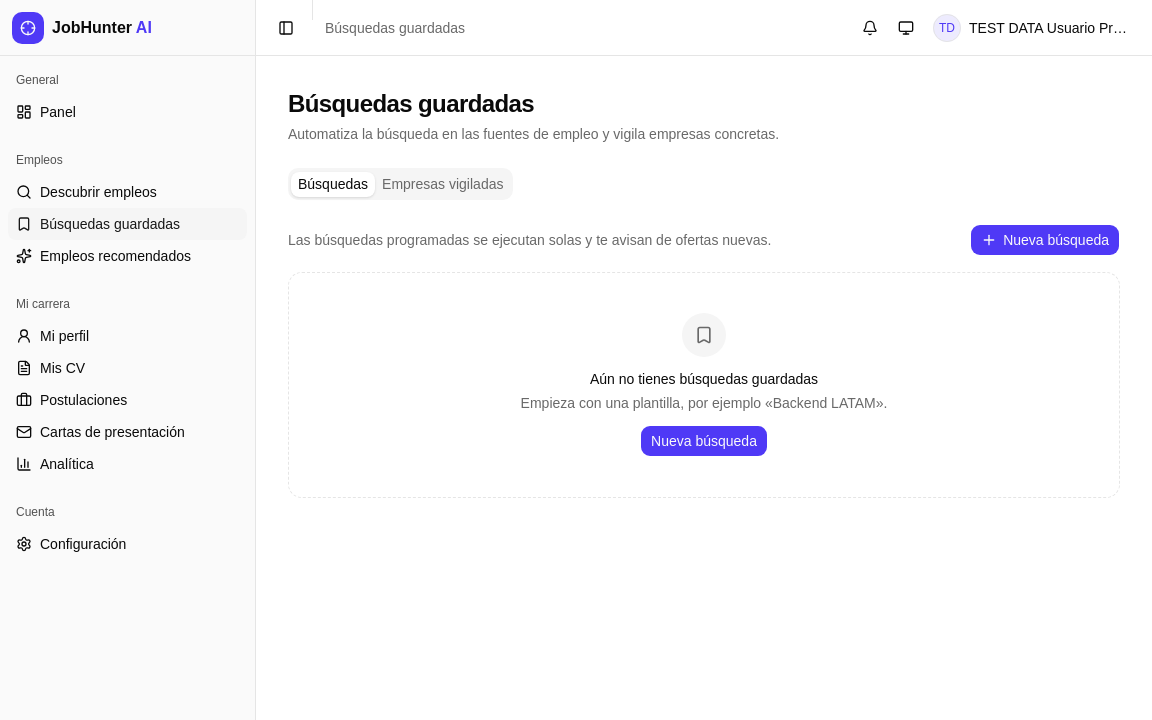
Test: Búsquedas guardadas › validates the interval (≥ 60 minutes) and max results
Click the 1st button "Nueva búsqueda" at coordinates (1045, 240), box [970, 224, 1120, 256]
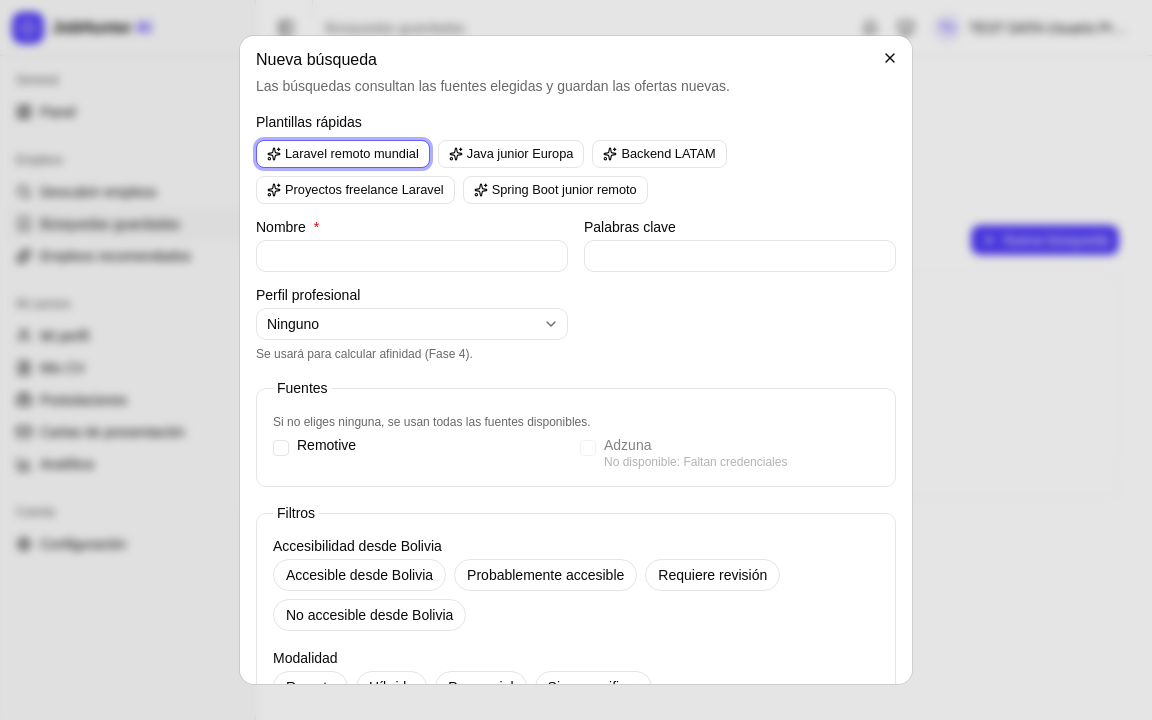
Type "TEST DATA búsqueda" into the field labelled "Nombre *" at coordinates (412, 256), box [256, 240, 568, 272]
(page scrolled)
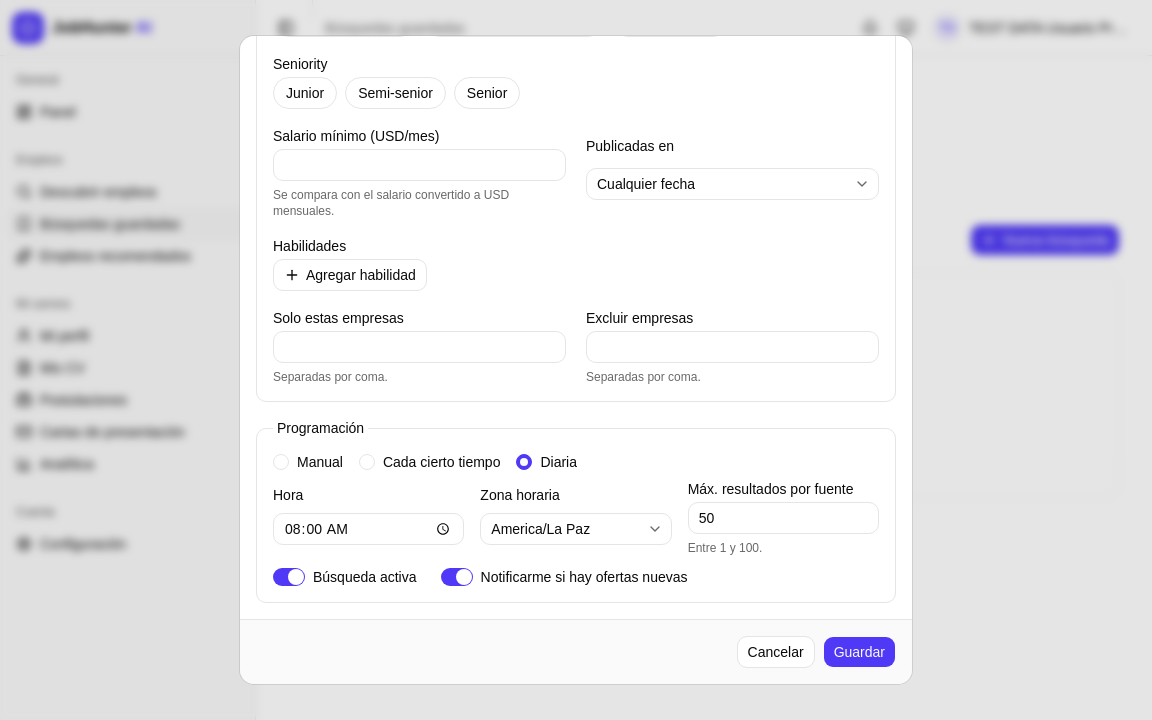
Click the radio button named "Cada cierto tiempo" next to "Cada cierto tiempo" at coordinates (367, 462), box [359, 454, 375, 470]
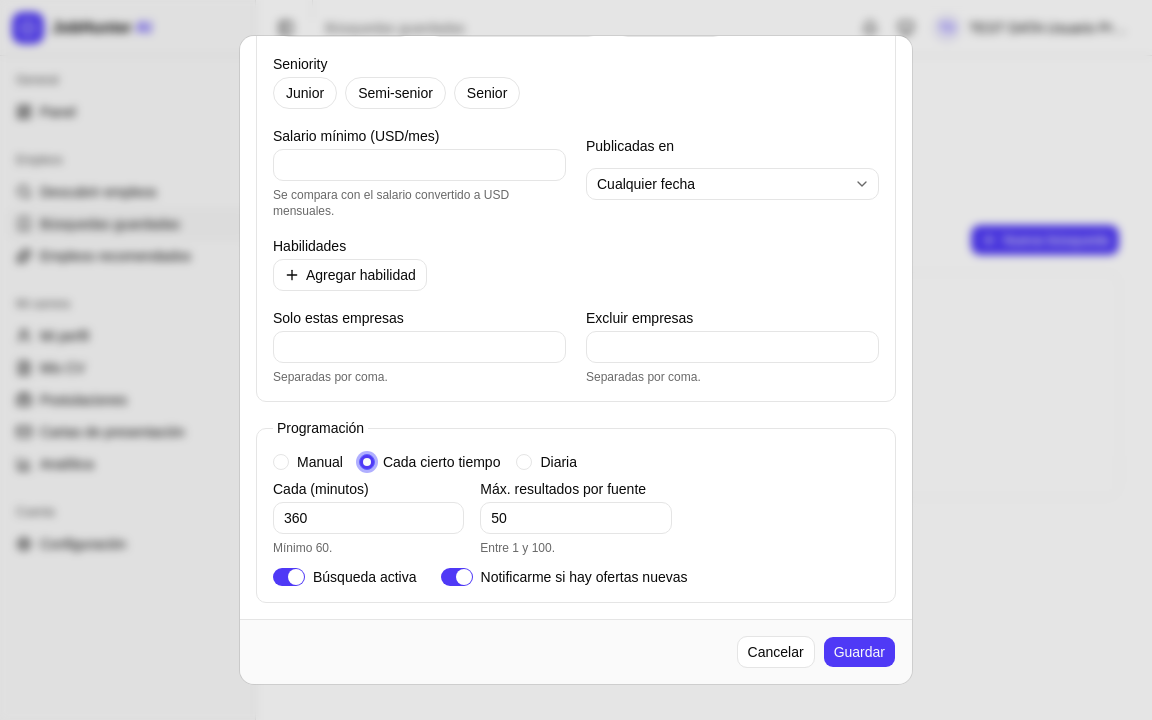
Replace the text in the number field labelled "Cada (minutos)" with "30" at coordinates (369, 518), box [273, 502, 464, 534]
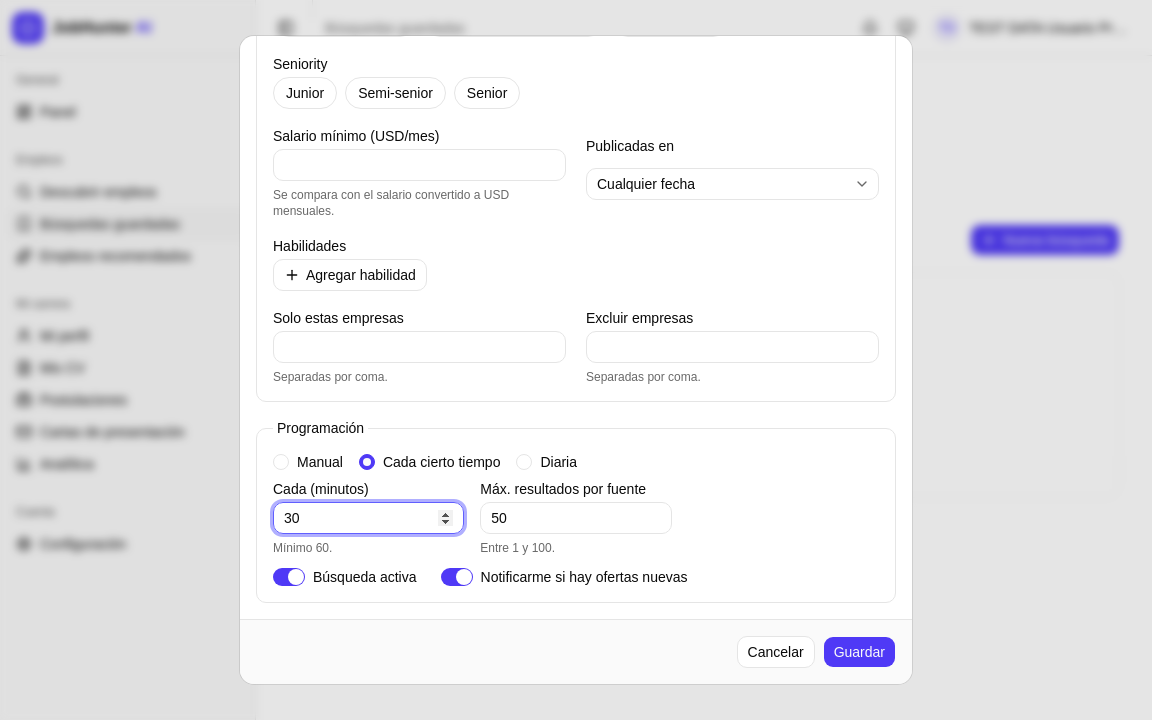
Replace the text in the number field labelled "Máx. resultados por fuente" with "500" at coordinates (576, 518), box [480, 502, 672, 534]
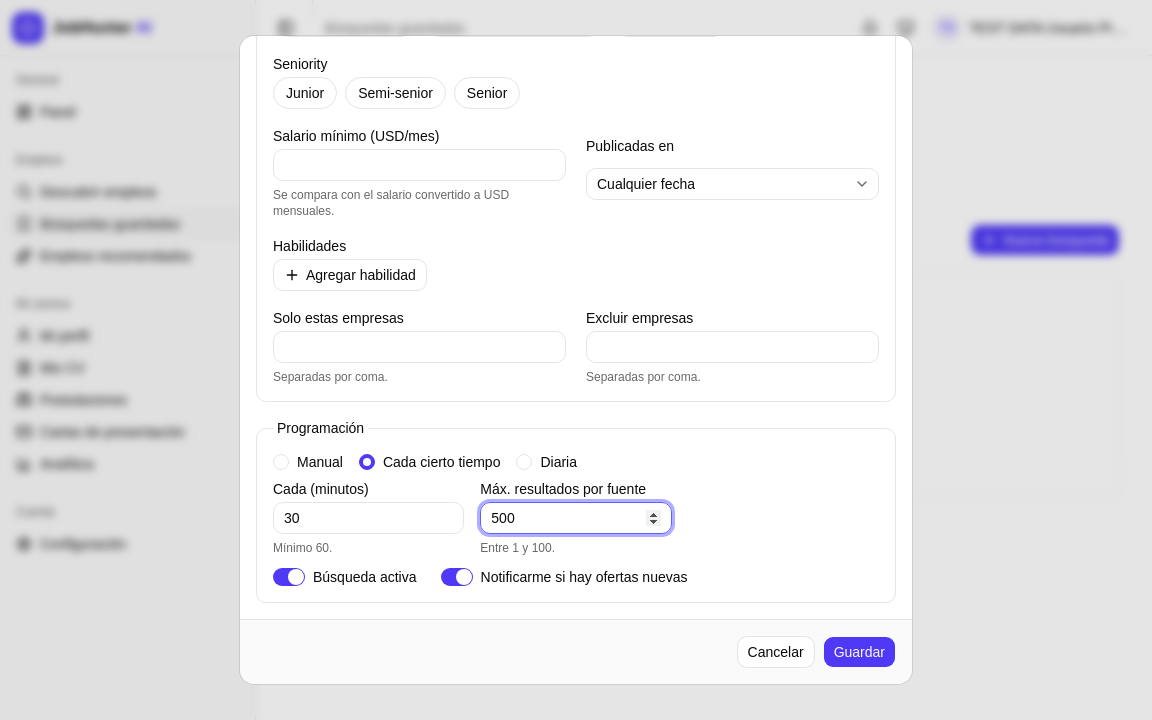
Click the button "Guardar" at coordinates (859, 652), box [823, 636, 896, 668]
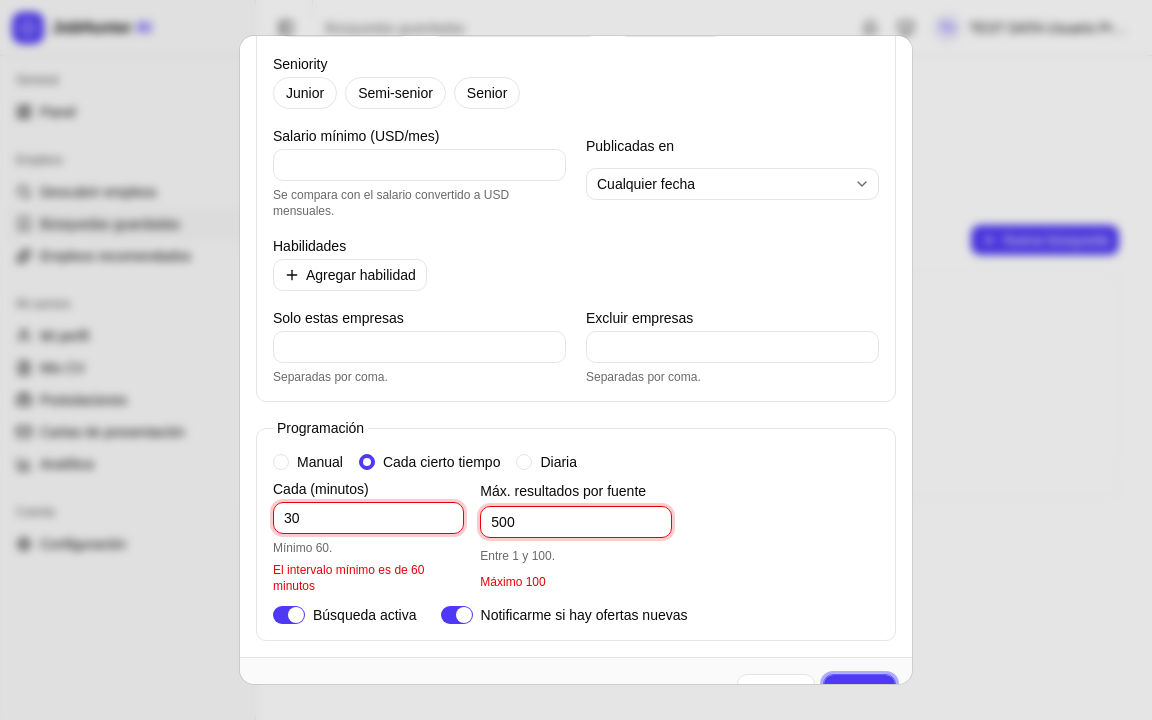
Expected: the text "El intervalo mínimo es de 60 minutos" is shown, [273, 563, 424, 593]
Expected: the text "Máximo 100" is shown, [480, 575, 546, 589]
